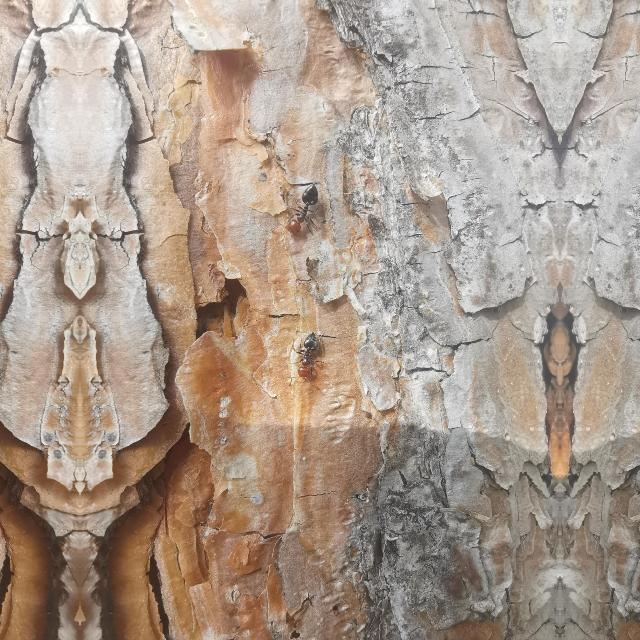Crematogaster: (281, 174, 327, 236), (290, 324, 326, 378)
